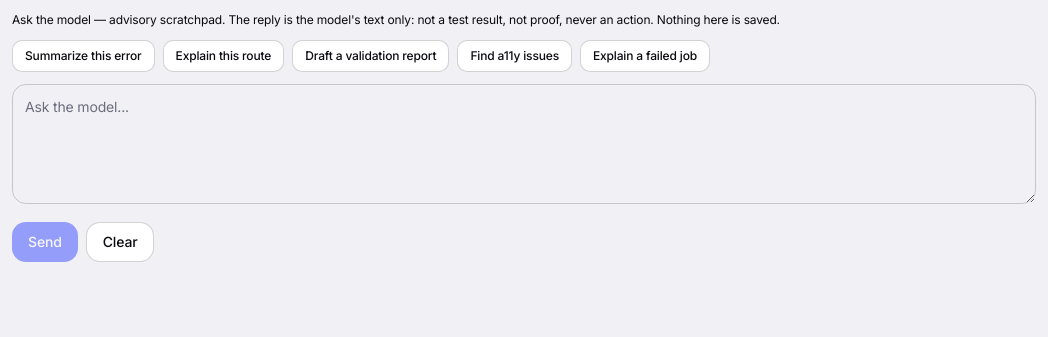
it: F5 user Cancel is not a failure toast › a real failure still toasts once (control)
In the text box named "prompt": (524, 144) [12,84,1036,204], type "hello"
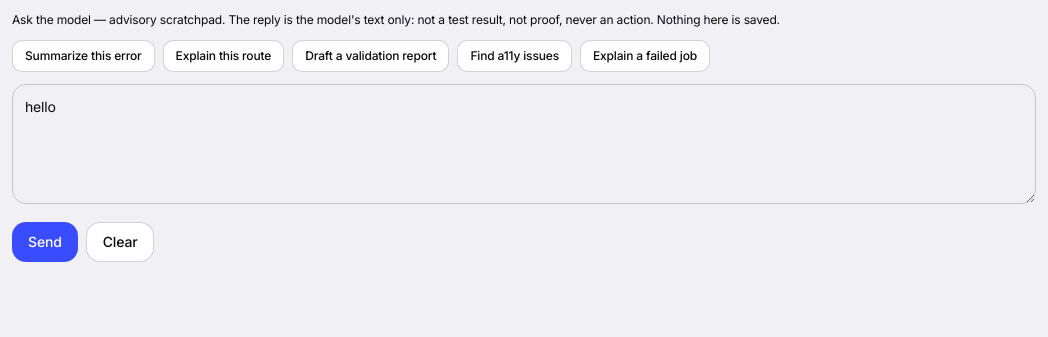
Click the button "Send": (45, 242) [12,222,78,262]
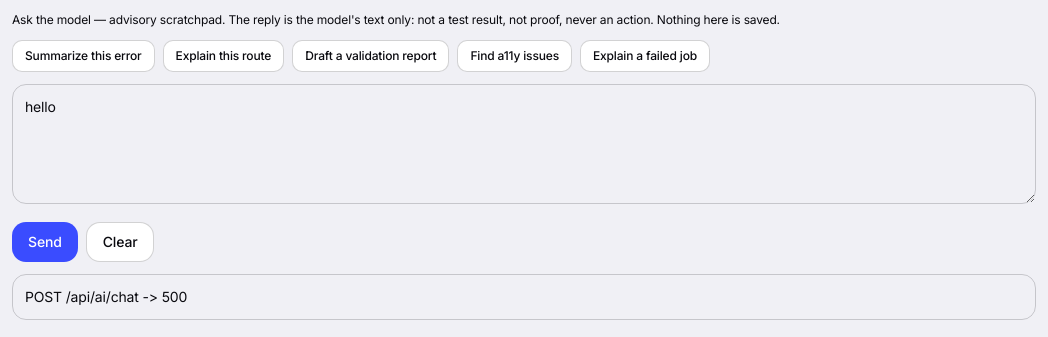
Expected: the text "POST /api/ai/chat -> 500" is shown, [12,274,1036,320]
